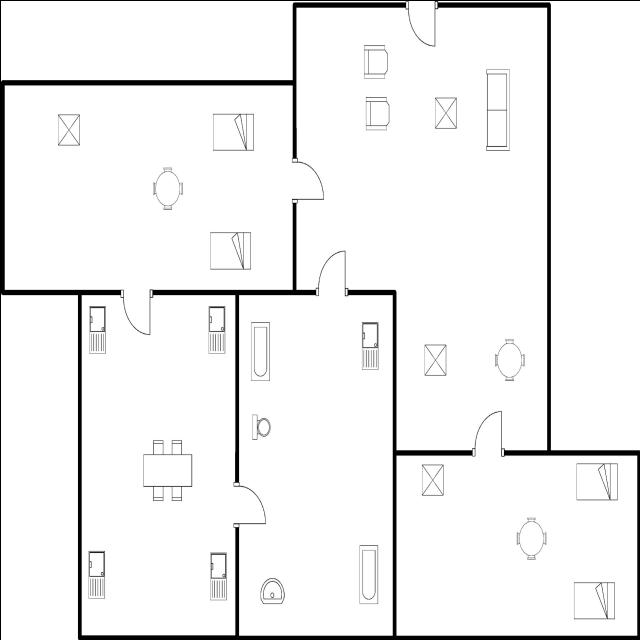armchair: (360, 90, 392, 134), (359, 42, 392, 82)
bed: (208, 108, 258, 156), (570, 576, 618, 624), (572, 456, 620, 504), (206, 228, 254, 273)
coffee_table: (52, 108, 85, 150), (418, 460, 446, 500), (421, 338, 448, 379), (432, 92, 459, 132)
dining_table: (138, 436, 196, 508)
large_sink: (248, 410, 273, 444)
large_sofa: (482, 64, 514, 154)
round_table: (512, 512, 550, 566), (490, 334, 530, 384), (147, 163, 187, 213)
sink: (203, 301, 229, 359), (357, 316, 381, 374), (84, 546, 108, 602), (206, 547, 228, 605), (85, 302, 108, 356)
small_sink: (256, 573, 288, 607)
tub: (355, 538, 381, 610), (246, 318, 272, 386)
